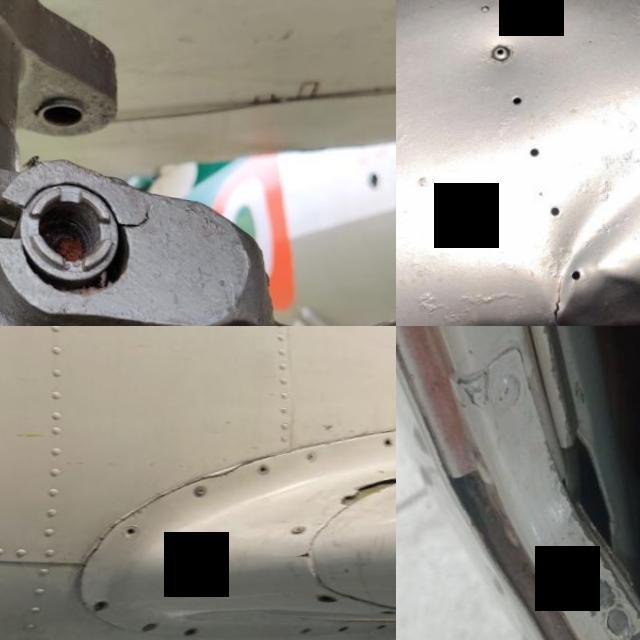Crack: (114, 474, 200, 517), (334, 452, 396, 509), (72, 514, 114, 572), (545, 276, 581, 326), (204, 456, 252, 481), (119, 196, 155, 228), (283, 542, 328, 558)
Dent: (515, 82, 640, 326)
Missing_Fastener: (317, 587, 340, 597), (96, 596, 112, 610), (124, 522, 140, 534), (258, 458, 272, 471), (185, 622, 199, 633), (381, 430, 396, 440)
